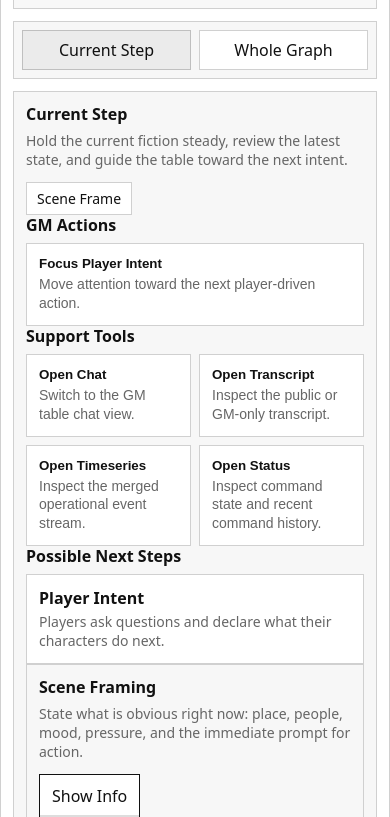
GMGameplayPage › opens transcript utility and switches transcript audience
(page scrolled)
Step 1. Click the button "Open Transcript" → (282, 395), box [199, 354, 364, 437]
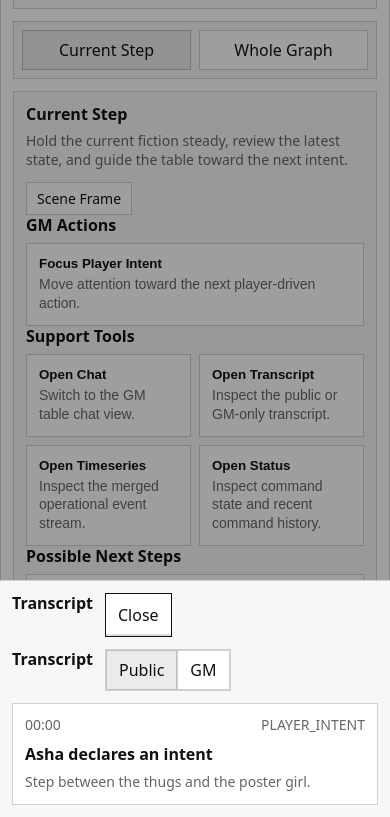
Result: the dialog named "GM utility panel" is shown at [0, 580, 389, 816]
Result: the text "Step between the thugs and the poster girl." is shown at [25, 772, 311, 791]
Step 2. Click the tab "GM" → (203, 670), box [177, 650, 230, 690]
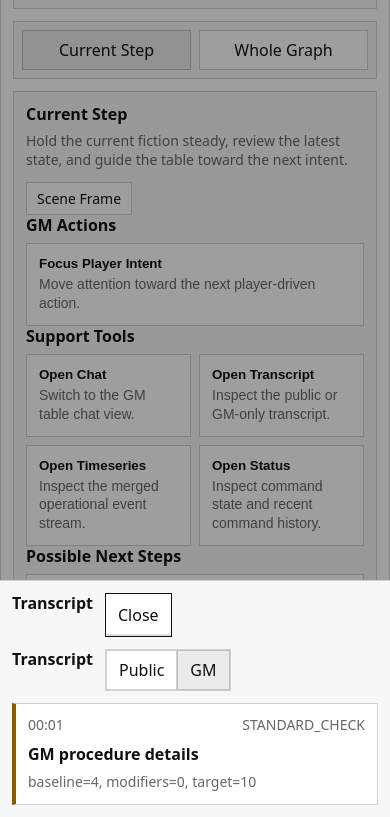
Result: the text "baseline=4, modifiers=0, target=10" is shown at [28, 772, 256, 791]
